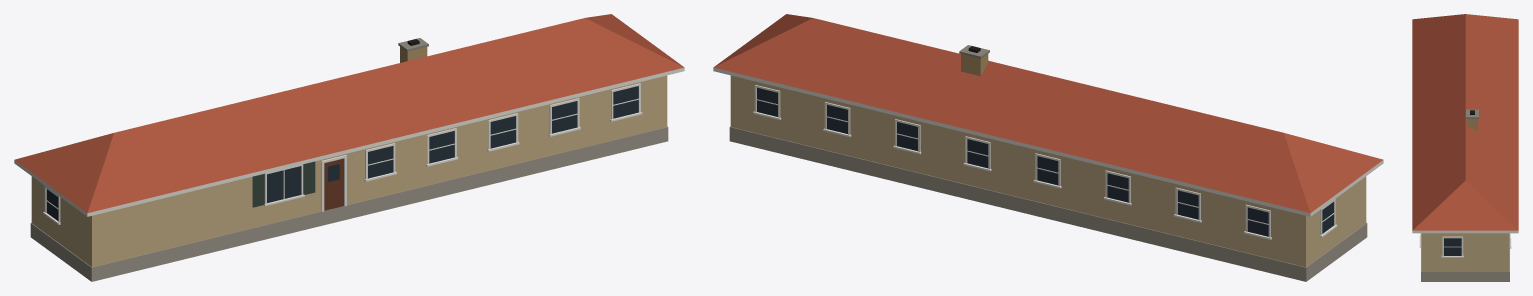
File: spanish-court-apartments-second-wing.glb
The picture shows the model from 3 angles, left to right: view 1: azimuth 30°, elevation 25°; view 2: azimuth 150°, elevation 25°; view 3: azimuth 270°, elevation 25°; orthographic projection. The views are drawn at different scales.
Visible parts, largest first — view 1: hillcrest_roof, hillcrest_wall, hillcrest_foundation, hillcrest_trim, hillcrest_glass, hillcrest_shutter, hillcrest_door; view 2: hillcrest_roof, hillcrest_wall, hillcrest_foundation, hillcrest_trim, hillcrest_glass, hillcrest_chimney; view 3: hillcrest_roof, hillcrest_wall, hillcrest_foundation, hillcrest_trim, hillcrest_glass, hillcrest_chimney, hillcrest_chimneycap.
Boxes of the visible parts, x1,y1,x2,y2 form: hillcrest_roof: (14,14,684,212); hillcrest_wall: (31,75,667,267); hillcrest_foundation: (30,126,668,281); hillcrest_trim: (14,67,684,224); hillcrest_glass: (46,86,638,220); hillcrest_shutter: (252,161,315,207); hillcrest_door: (324,158,343,210); hillcrest_roof: (713,14,1383,212); hillcrest_wall: (730,75,1366,267); hillcrest_foundation: (729,126,1367,281); hillcrest_trim: (713,67,1383,239); hillcrest_glass: (757,87,1333,236); hillcrest_chimney: (961,54,988,75); hillcrest_roof: (1412,14,1518,230); hillcrest_wall: (1421,233,1509,271); hillcrest_foundation: (1421,247,1509,281); hillcrest_trim: (1412,230,1518,257); hillcrest_glass: (1444,238,1461,255); hillcrest_chimney: (1467,119,1477,131); hillcrest_chimneycap: (1466,109,1478,118).
Size of the model in its own units: 27.26 by 5.57 by 5.78.
